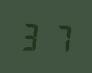seven: (45, 19, 70, 54)
three: (19, 18, 44, 52)
